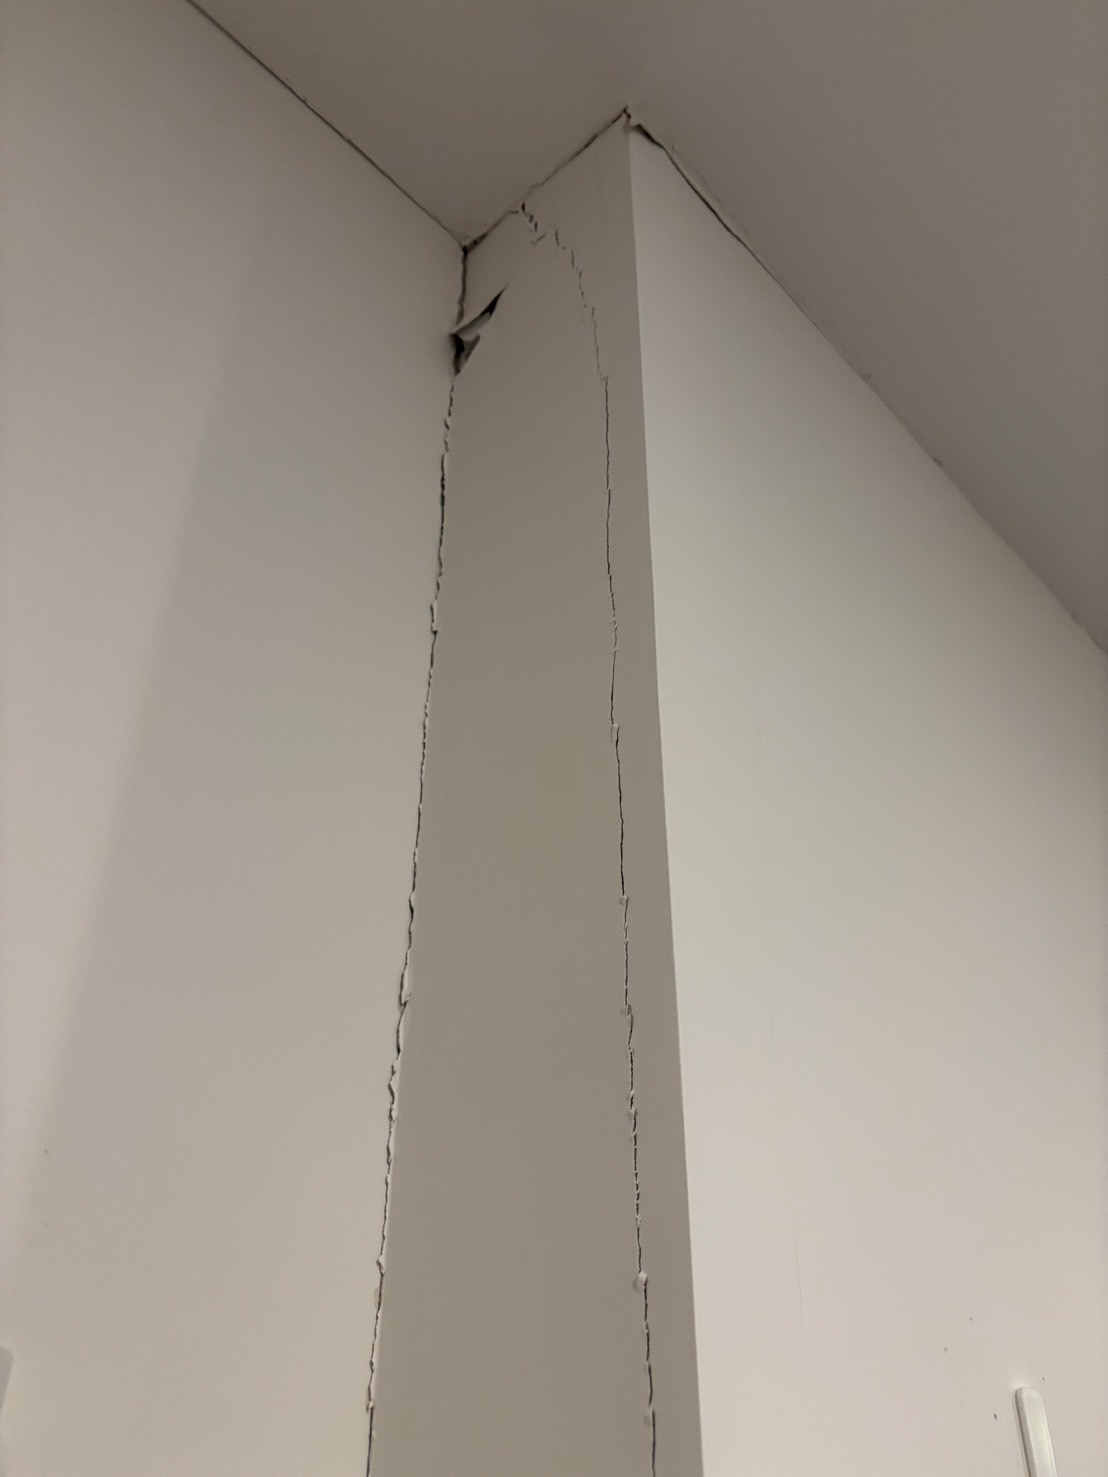Medium: (329, 183, 645, 954)
